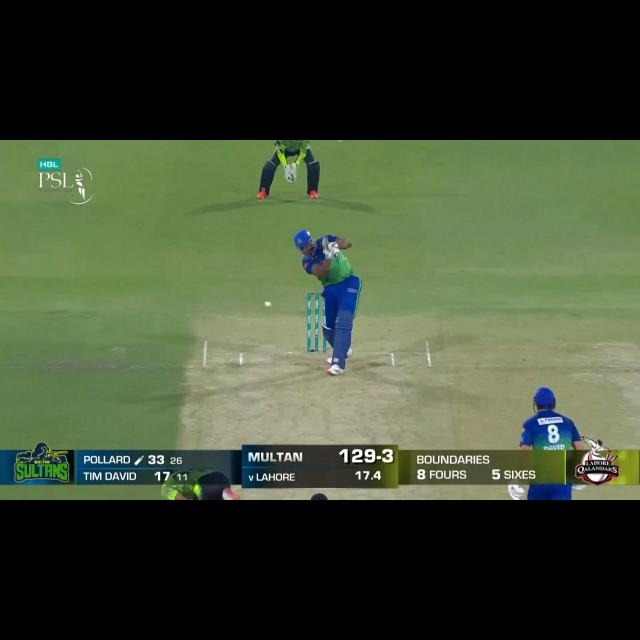bat: (321, 237, 332, 255)
